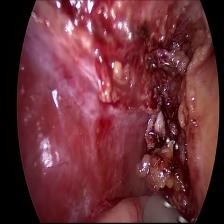Irrigator: (138, 190, 193, 224)
